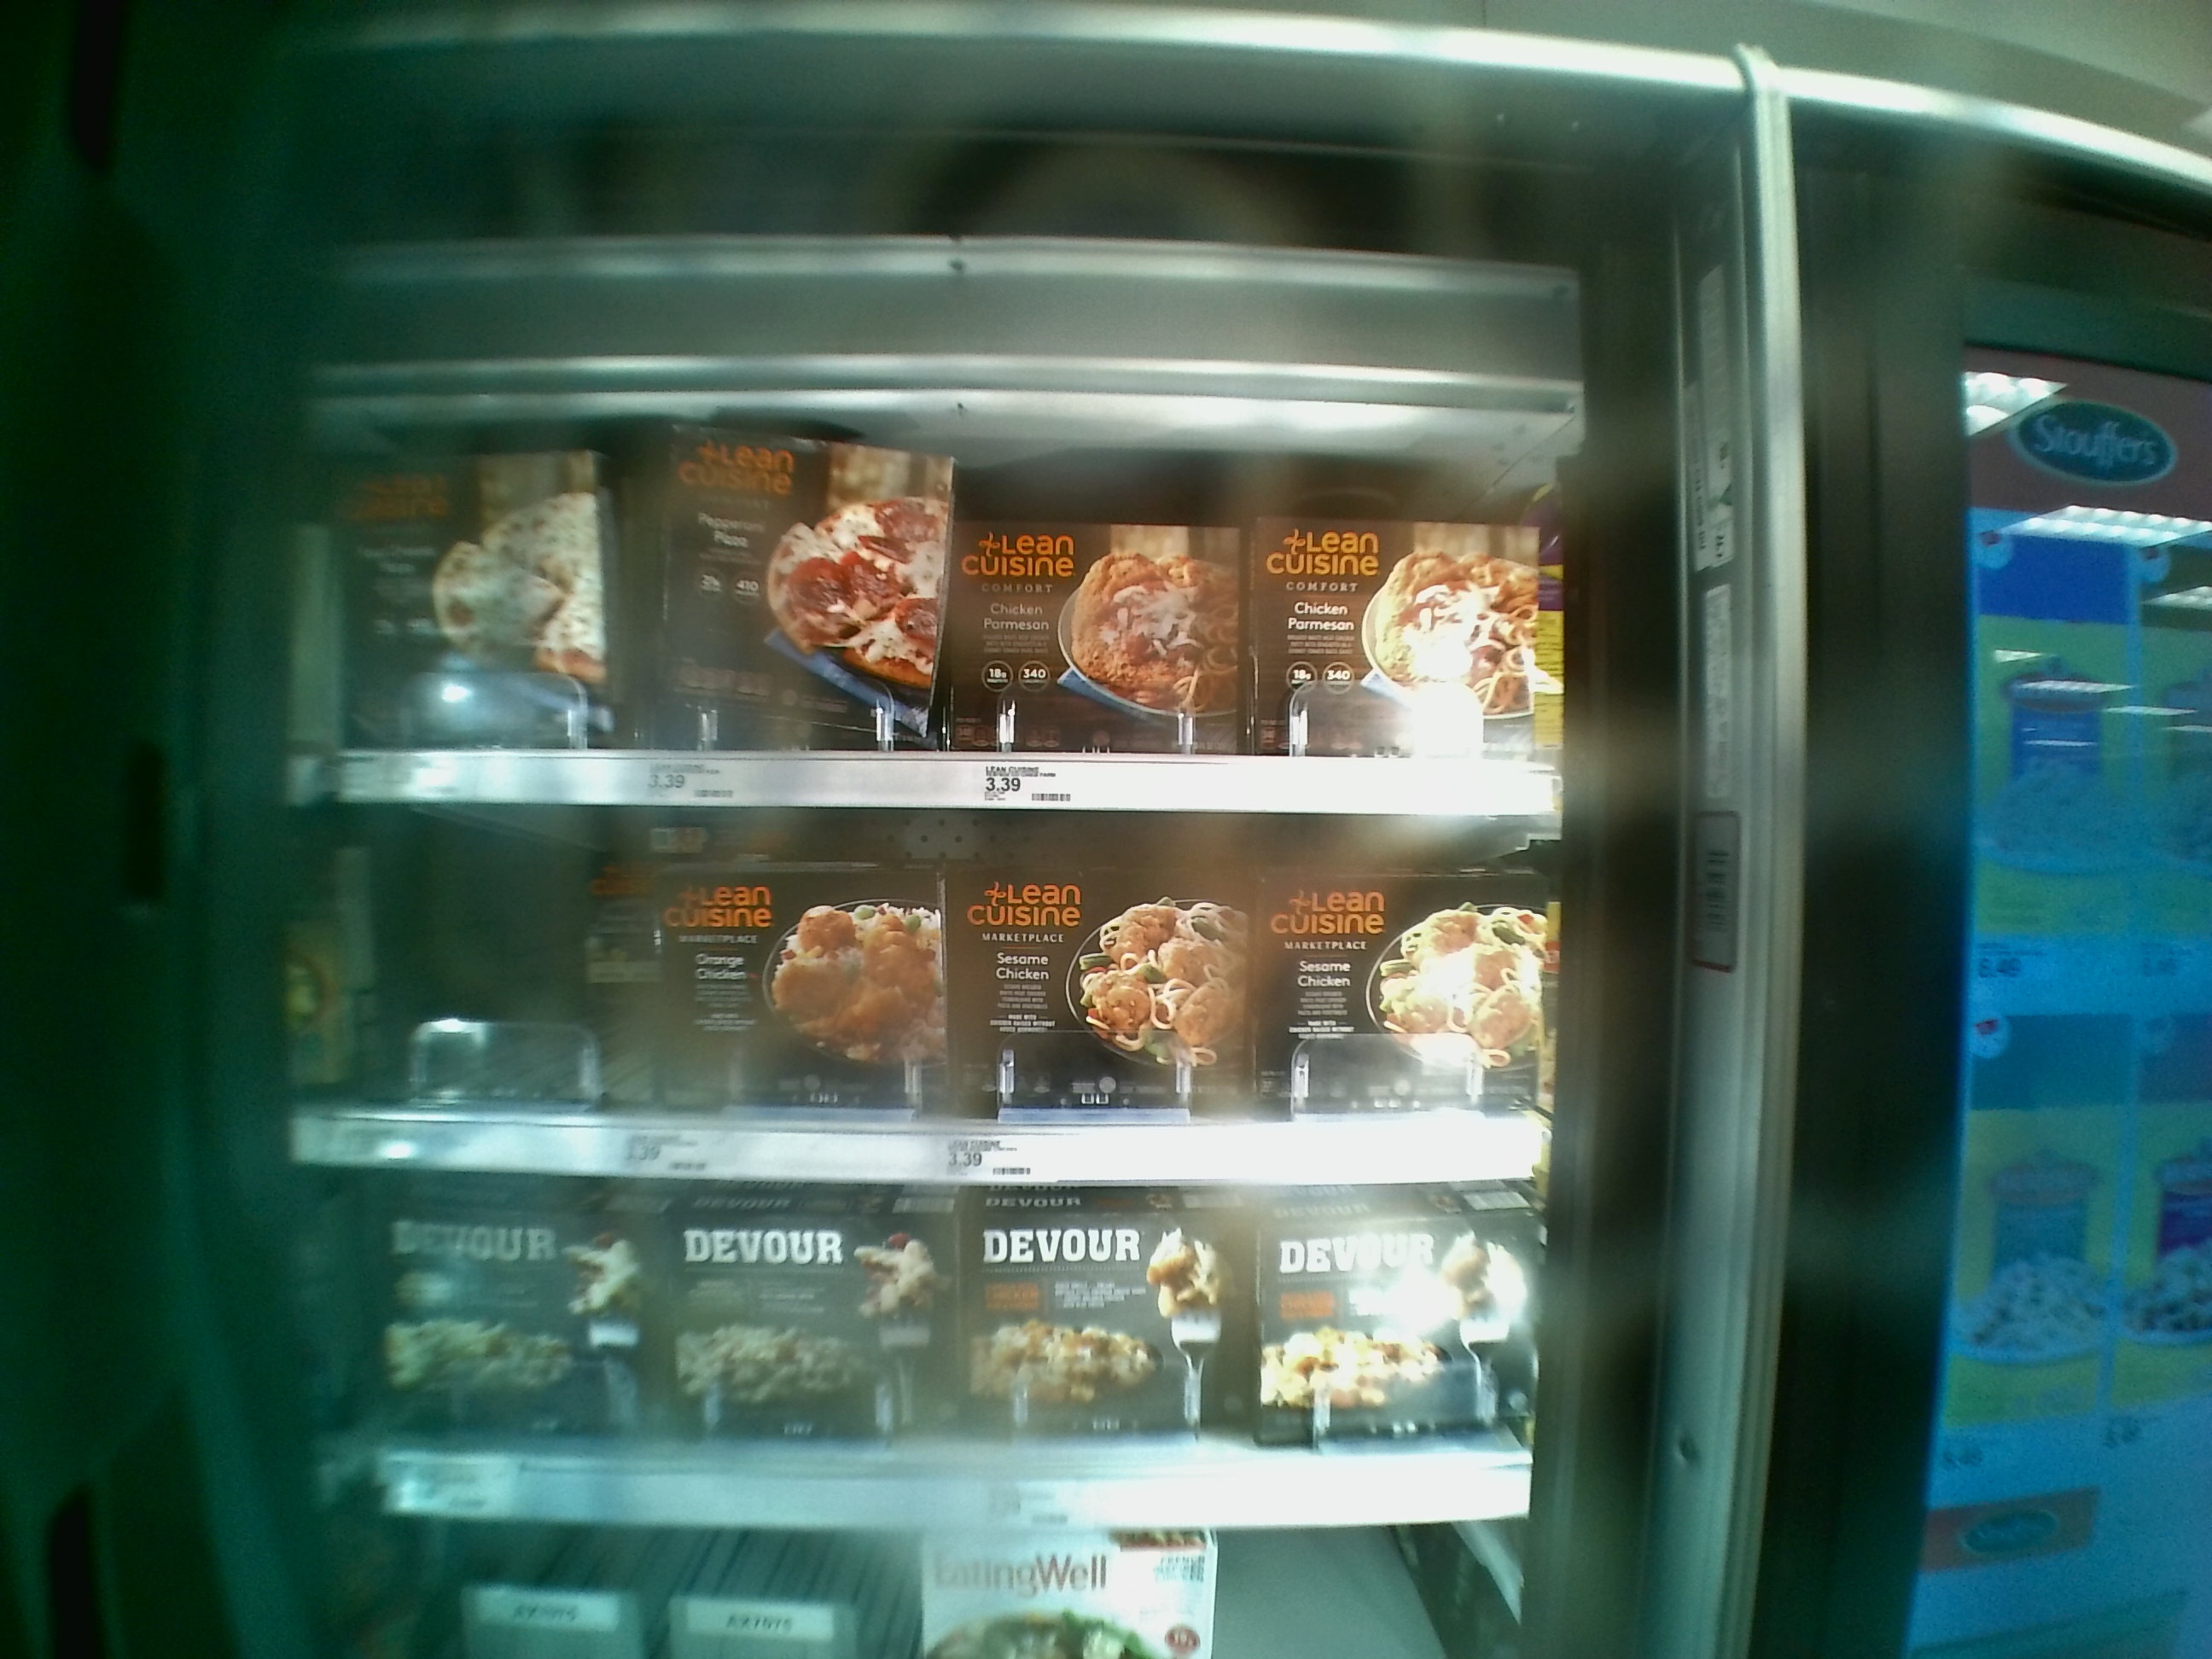Shelf: (310, 369, 1566, 814), (291, 803, 1554, 1183), (308, 1166, 1545, 1530)
